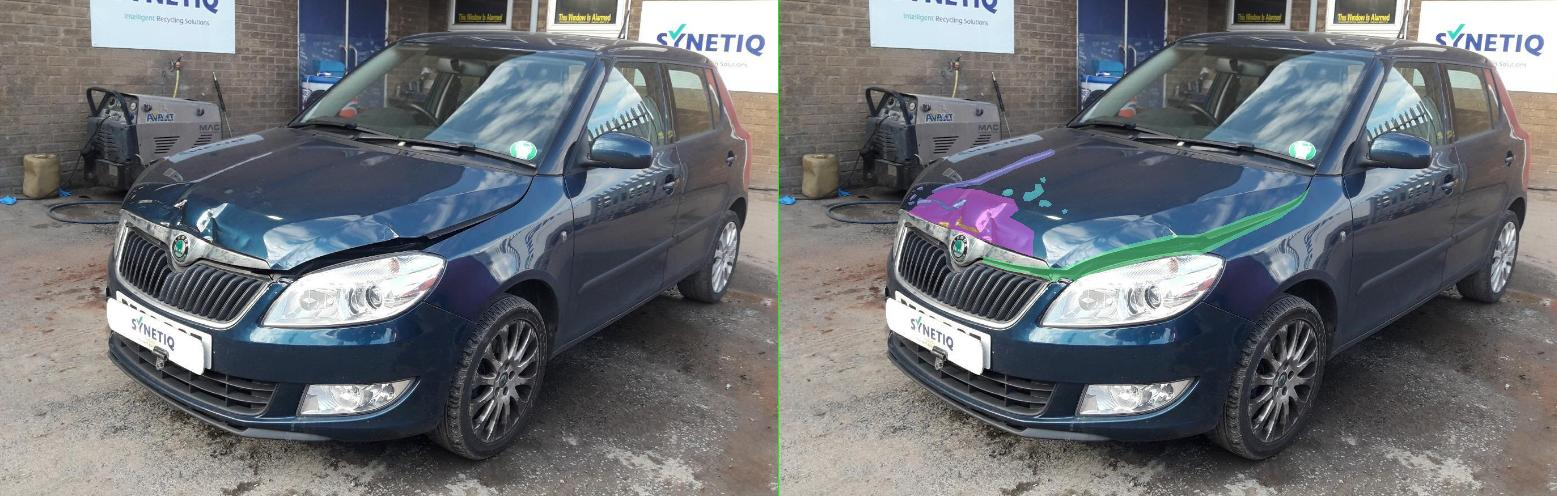Broken part: (406, 187, 1061, 281)
Dent: (258, 188, 508, 256)
Flaking: (488, 184, 528, 200), (520, 200, 544, 206), (446, 189, 466, 195), (522, 177, 532, 182), (566, 209, 576, 213)
Paint chip: (352, 216, 400, 233), (318, 222, 340, 227)
Scratch: (306, 149, 550, 192), (308, 197, 342, 210), (346, 199, 378, 209), (276, 198, 306, 204), (262, 194, 274, 200), (258, 201, 270, 204), (276, 186, 286, 189)
